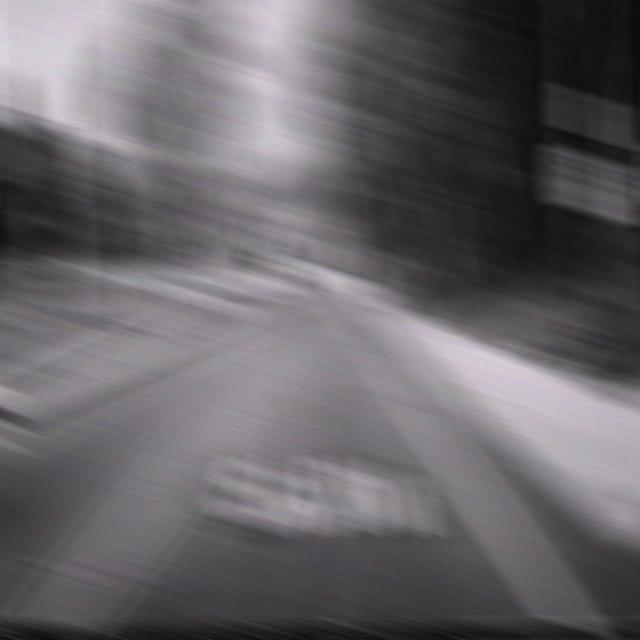speedLimit15: (564, 149, 618, 219)
